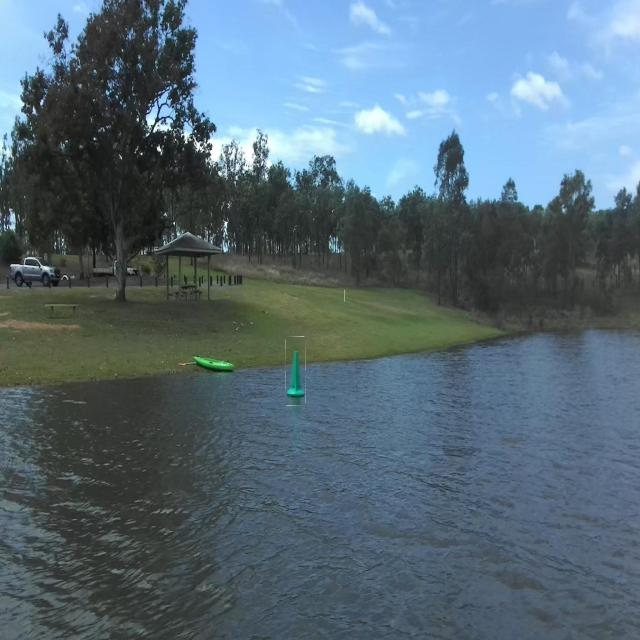Green_Buoy: (286, 346, 307, 401)
